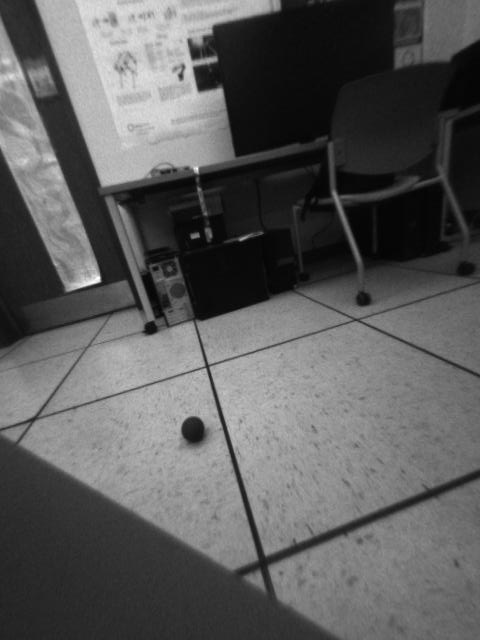dogtoy: (174, 408, 214, 451)
